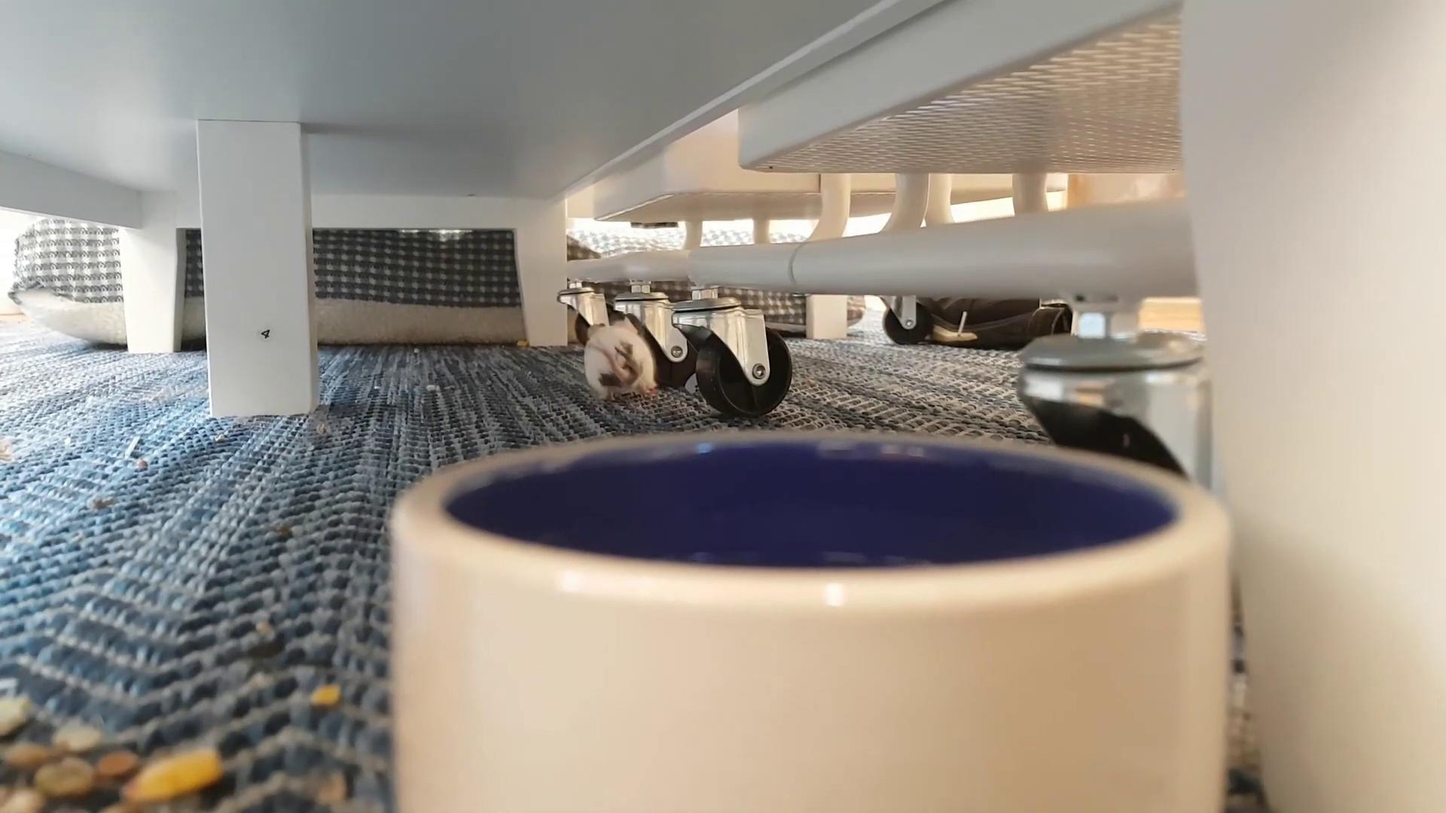rat: (585, 315, 658, 396)
